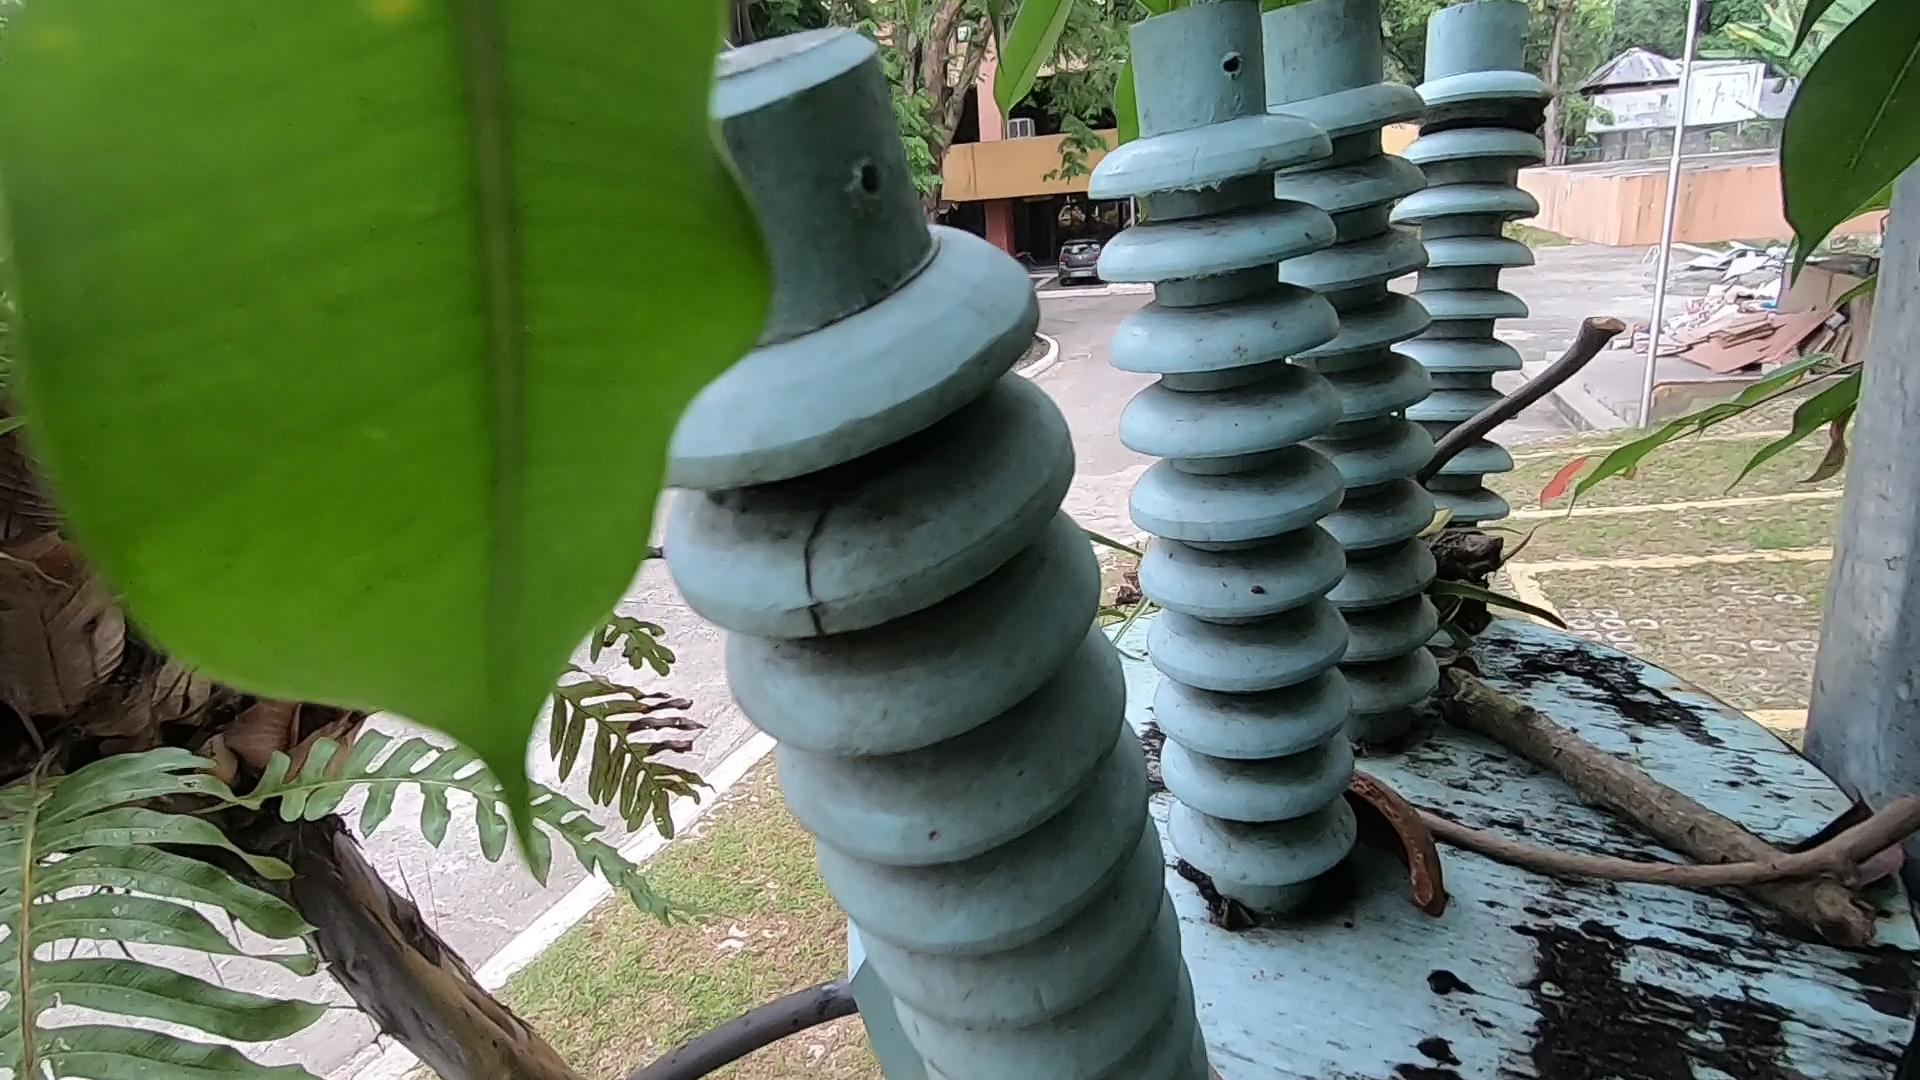branch with leaves: (1352, 448, 1898, 969)
leaf: (1816, 814, 1920, 942)
mahogany fruit: (1371, 721, 1476, 990)
tree branch: (1406, 266, 1691, 549), (1393, 782, 1920, 914)
